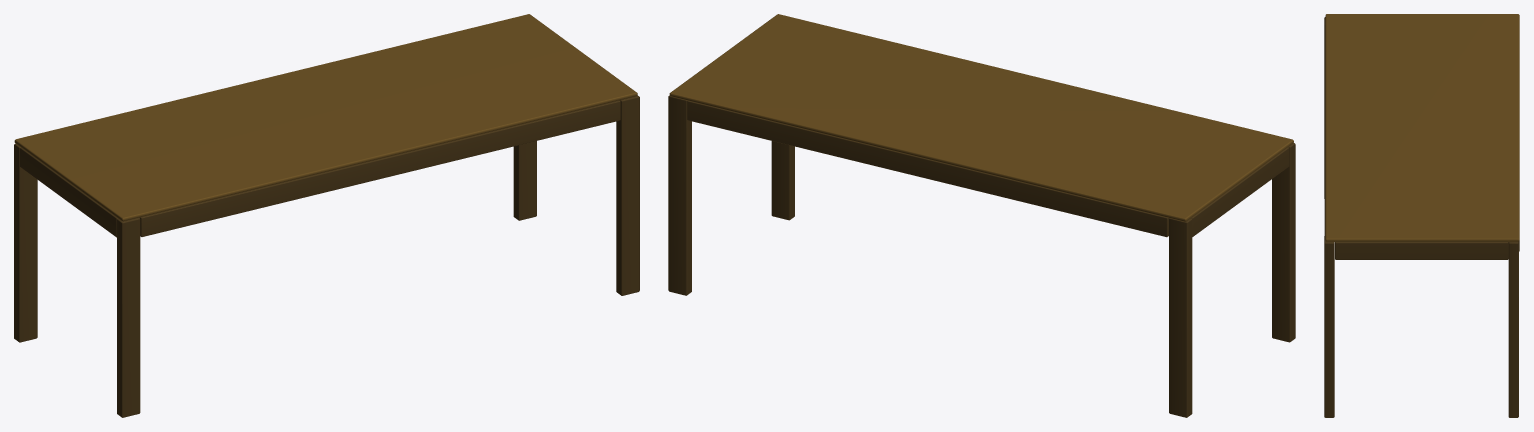
File: SeanElstonWork TableFinal.fbx
The picture shows the model from 3 angles, left to right: view 1: azimuth 30°, elevation 25°; view 2: azimuth 150°, elevation 25°; view 3: azimuth 270°, elevation 25°; orthographic projection. The views are drawn at different scales.
Parts seen in each view (by area): view 1: Work Table; view 2: Work Table; view 3: Work Table.
Part boxes in pixels (x1,y1,x2,y2): Work Table: [14, 14, 639, 417]; Work Table: [668, 14, 1295, 417]; Work Table: [1324, 14, 1519, 417].
Size of the model in its own units: 207 by 76.19 by 75.43.
